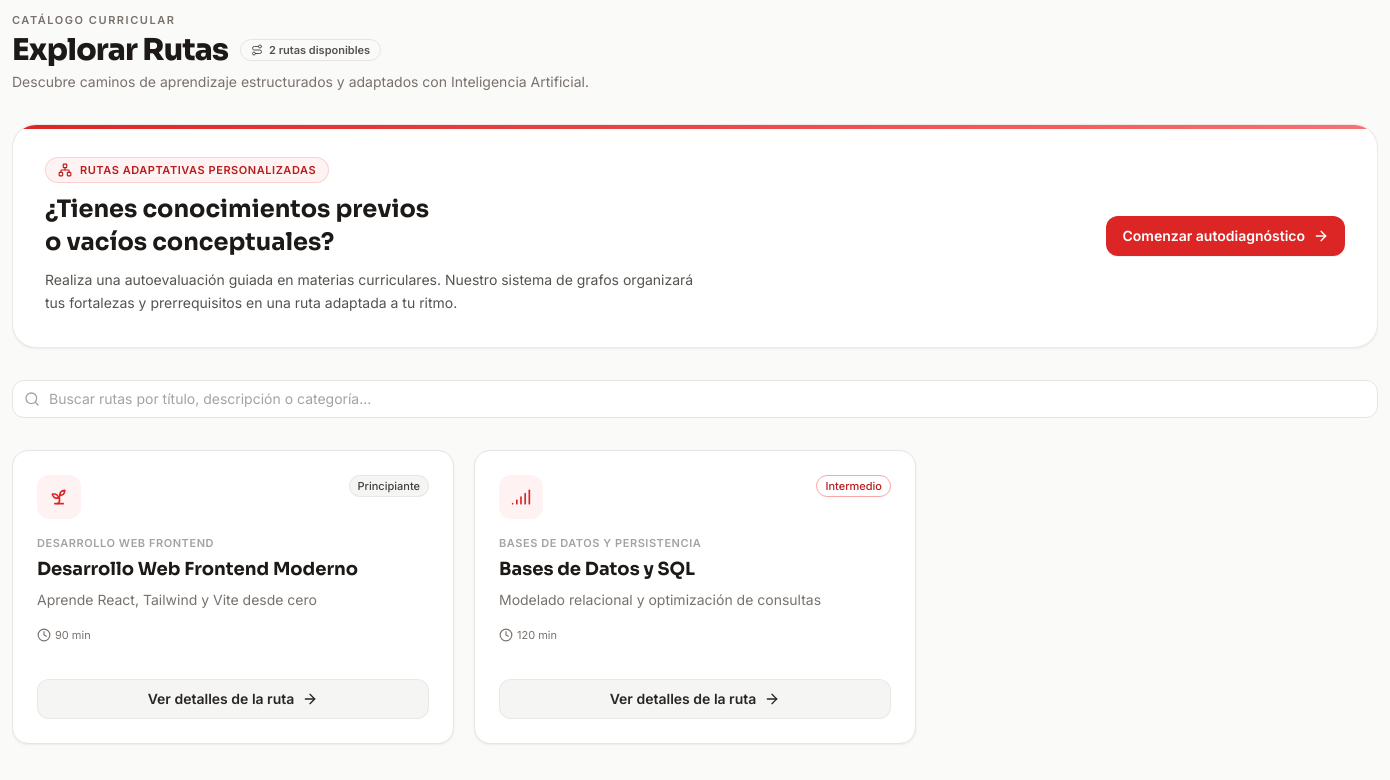
Test case: RouteExplorer — buscador de rutas curriculares › filtra las rutas en tiempo real por título o categoría
Type "frontend" into the field with placeholder "Buscar rutas por título, descripción o categoría..." at (695, 398), box top-left (12, 380), bottom-right (1378, 418)
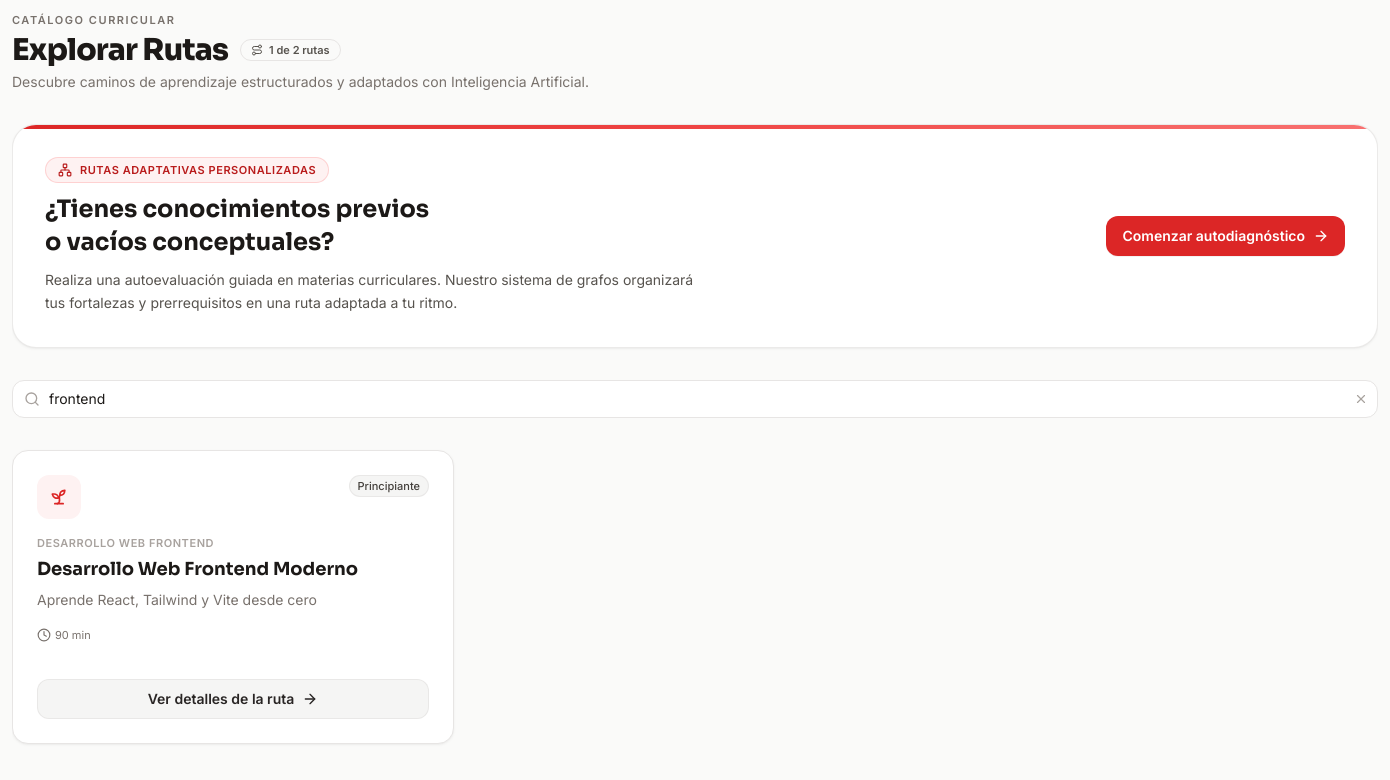
Expected: the heading "Desarrollo Web Frontend Moderno" is shown, top-left (37, 558), bottom-right (358, 580)
Now the heading "Bases de Datos y SQL" is gone
Now the text "1 de 2 rutas" is shown, box top-left (240, 39), bottom-right (341, 61)
Limpiar búsqueda
Click the button named "Borrar texto" at (1366, 398), box top-left (1354, 380), bottom-right (1378, 418)
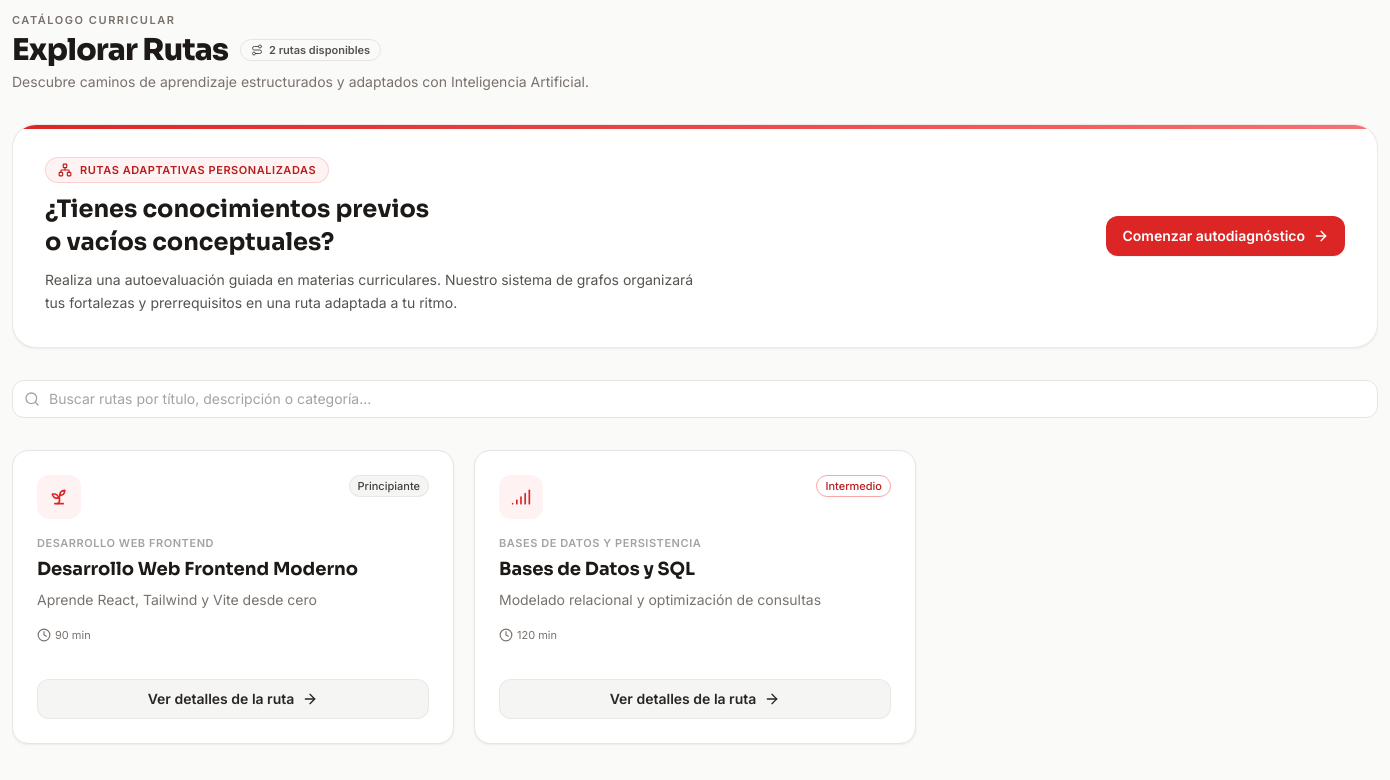
Now the heading "Bases de Datos y SQL" is shown, box top-left (499, 558), bottom-right (695, 580)
Now the text "2 rutas disponibles" is shown, box top-left (240, 39), bottom-right (381, 61)
